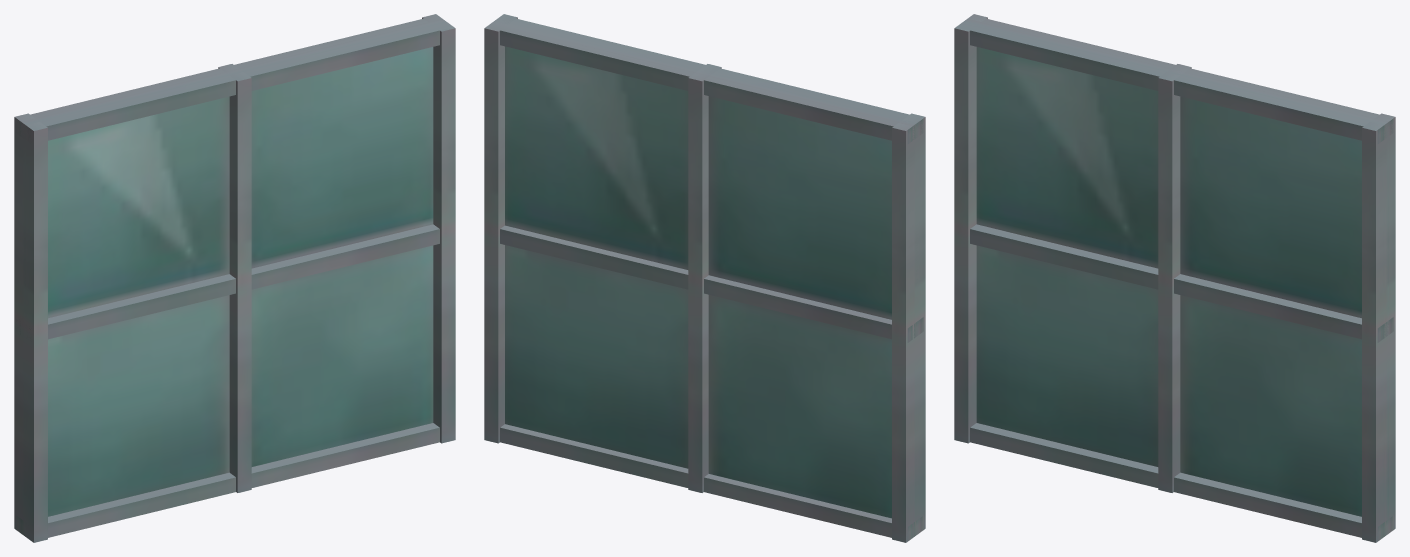
File: debris_sf_curtain_wall.glb
The picture shows the model from 3 angles, left to right: view 1: azimuth 30°, elevation 25°; view 2: azimuth 150°, elevation 25°; view 3: azimuth 330°, elevation 25°; orthographic projection.
Parts seen in each view (by area): view 1: debris_sf_curtain_wall; view 2: debris_sf_curtain_wall; view 3: debris_sf_curtain_wall.
Part boxes in pixels (x1,y1,x2,y2): debris_sf_curtain_wall: [14, 14, 455, 542]; debris_sf_curtain_wall: [484, 14, 925, 542]; debris_sf_curtain_wall: [954, 14, 1395, 542].
Bounding box in the file's own units: 3 × 2.8 × 0.2399.
1 material, 1 textured.
